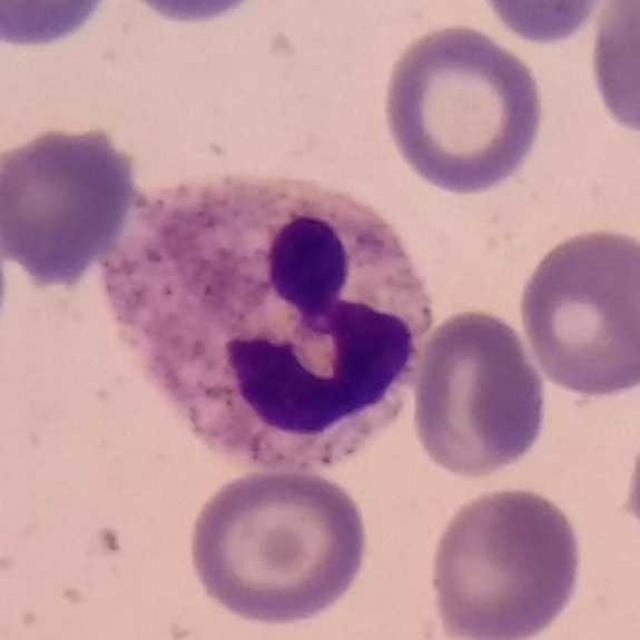Neutrophil: (84, 157, 442, 494)
RBC: (182, 464, 375, 630), (376, 19, 551, 197), (423, 481, 587, 640), (407, 304, 551, 483), (0, 120, 140, 285), (514, 222, 640, 400), (584, 0, 639, 142), (471, 0, 623, 48), (0, 0, 121, 52), (110, 0, 276, 28)
